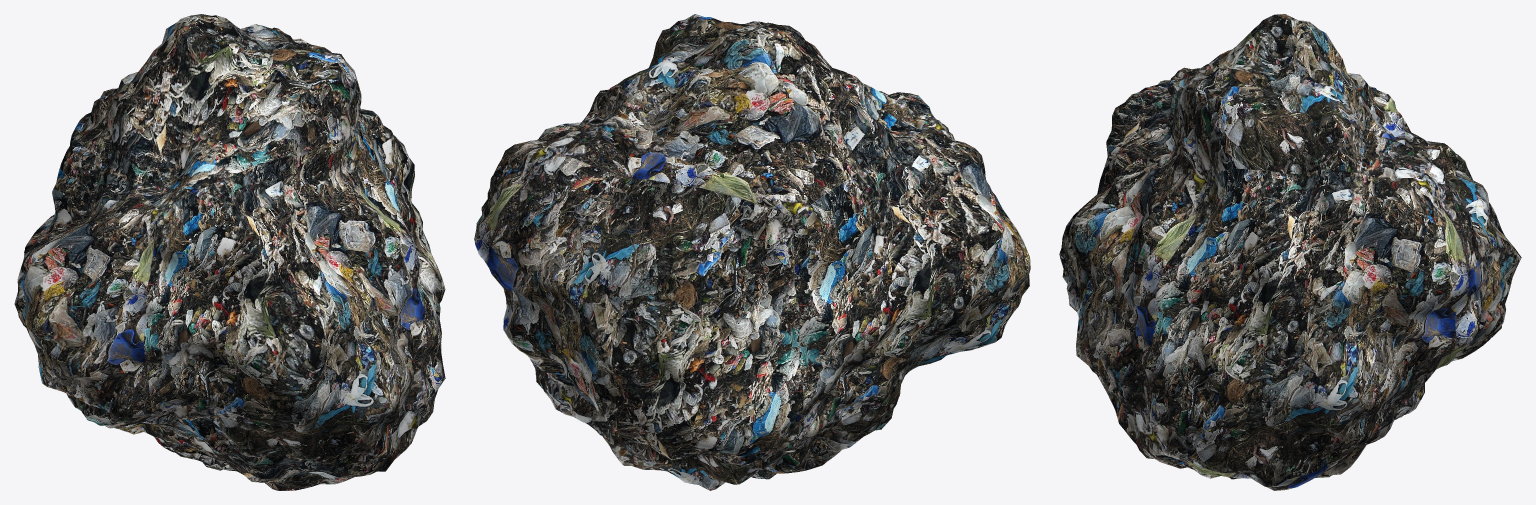
Rendered from asteroid_small_1.fbx.
3 renders of one model, left to right at view 1: azimuth 30°, elevation 25°; view 2: azimuth 150°, elevation 25°; view 3: azimuth 270°, elevation 25°, orthographic. The views are drawn at different scales.
Visible parts, largest first — view 1: Cube; view 2: Cube; view 3: Cube.
Part boxes in pixels (box(x1,y1,x2,y2)): Cube: box(14, 14, 445, 490); Cube: box(474, 14, 1030, 490); Cube: box(1059, 14, 1521, 490).
Bounding box in the file's own units: 2.08 × 2.01 × 2.05.
1 material, 1 textured.
